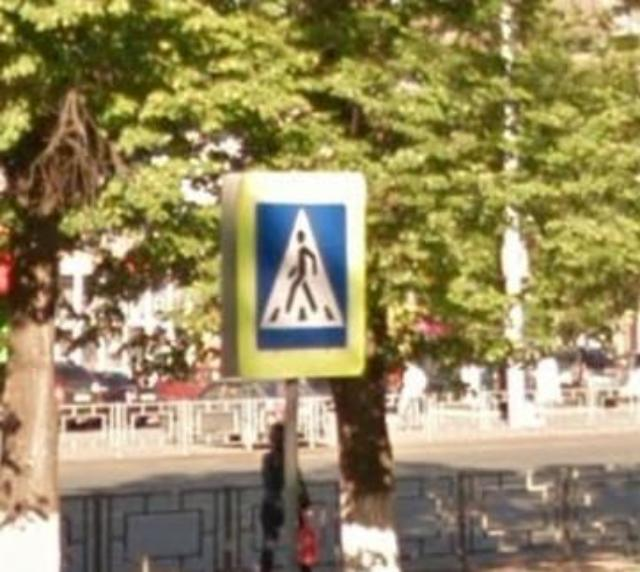crosswalk-sign: (220, 170, 368, 382)
